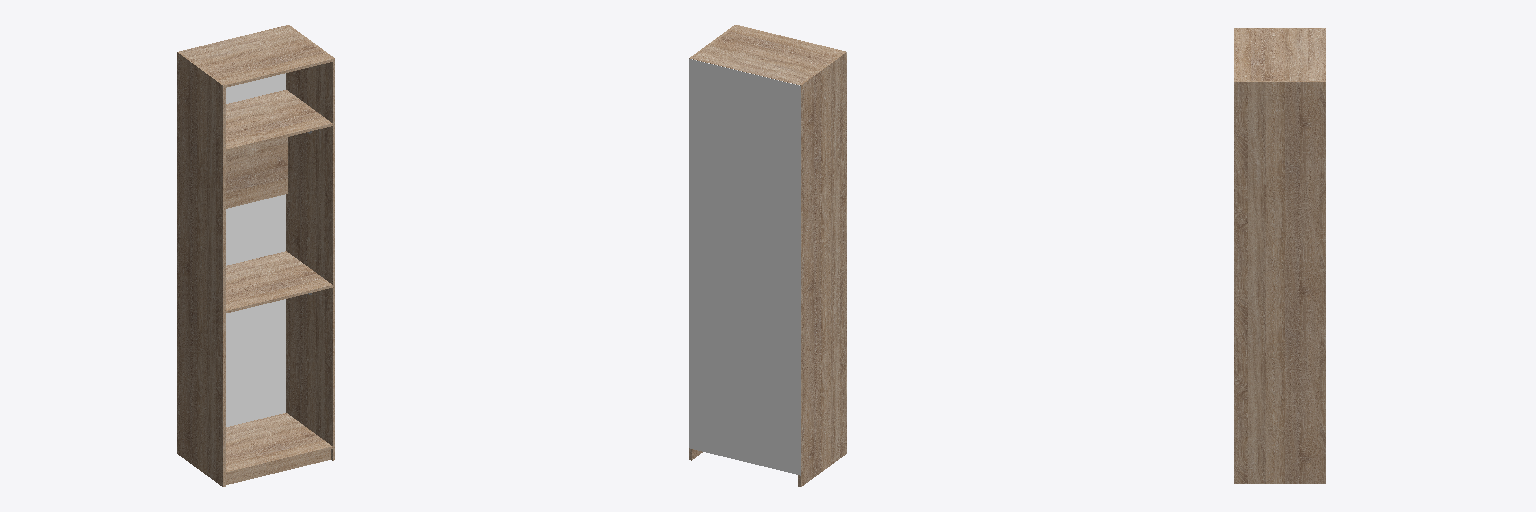
The picture shows the model from 3 angles: view 1: azimuth 30°, elevation 25°; view 2: azimuth 150°, elevation 25°; view 3: azimuth 270°, elevation 25°; orthographic projection.
Size of the model in its own units: 700 by 2400 by 503.
4 materials, 2 textured.